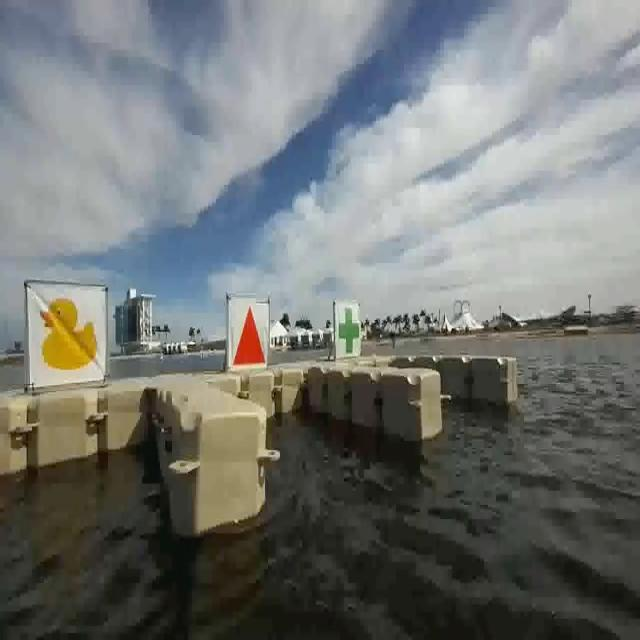blue-cross: (332, 301, 362, 359)
red-dot: (231, 298, 268, 370)
yellow-duck: (40, 294, 99, 371)
